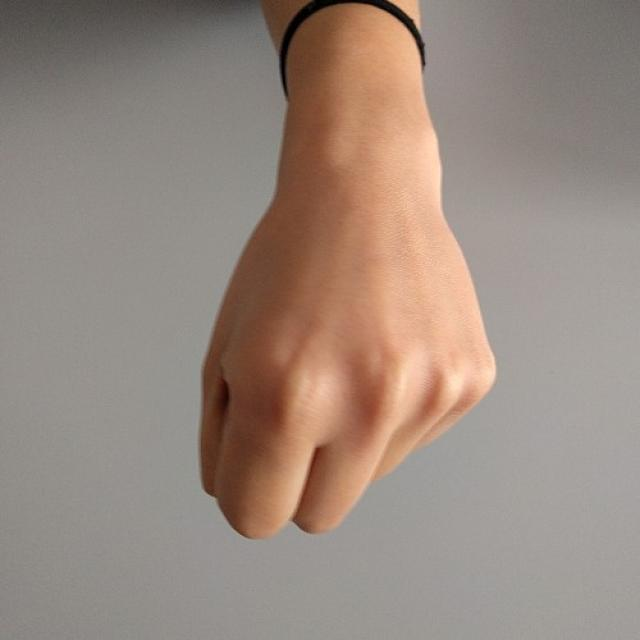fist: (188, 177, 504, 566)
